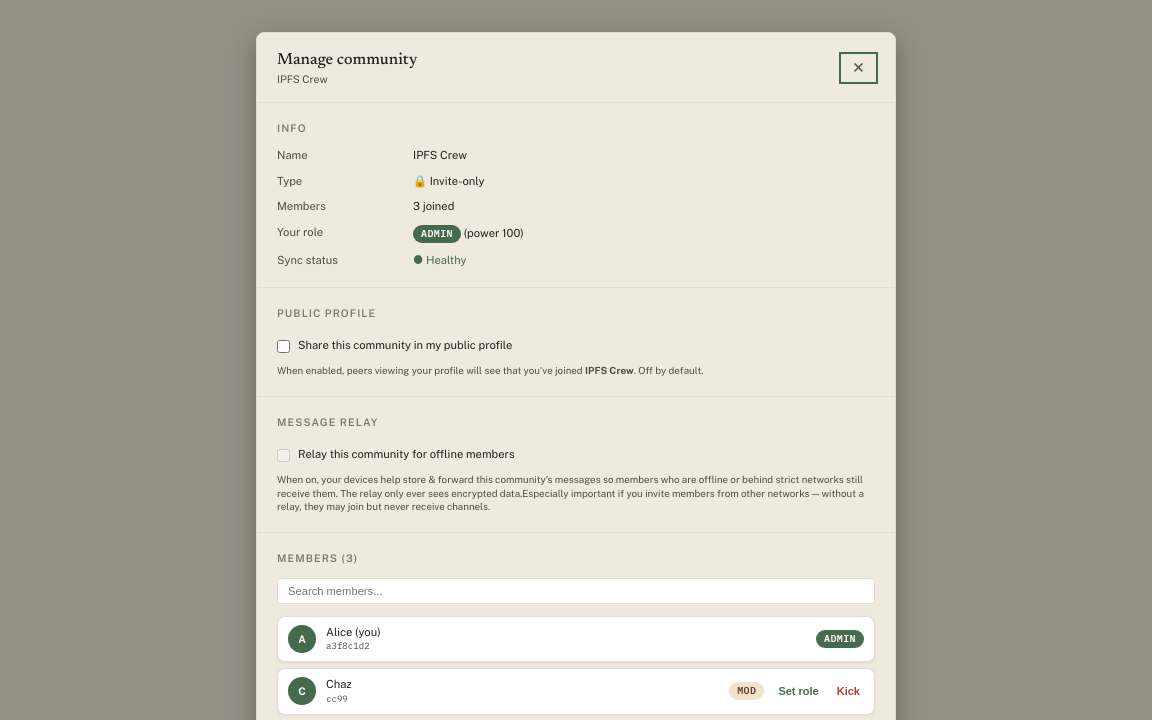
Test: member-action confirmation dialogs resolve names through the ladder (ZEB-957) › set-power dialog shows the resolved nickname in its title
What coordinates should you click on to do the following:
click the button with class "set-role"
I would click on:
 (799, 691)
Its box is [774,683,823,699].
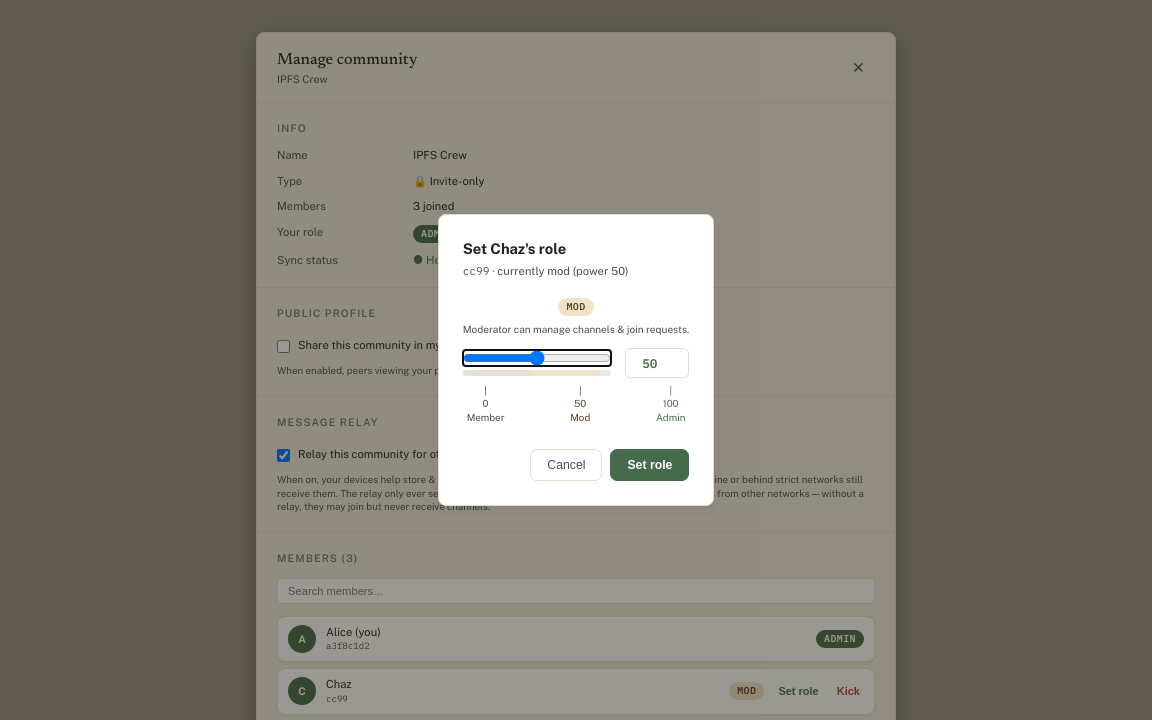
Now the heading "Set Chaz's role" is shown, box [463,240,566,257]
